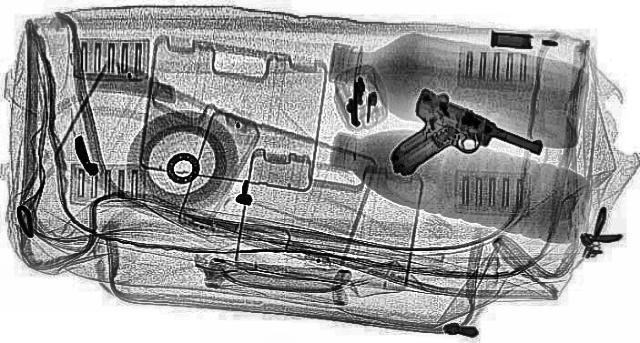Gun: (327, 86, 556, 198)
